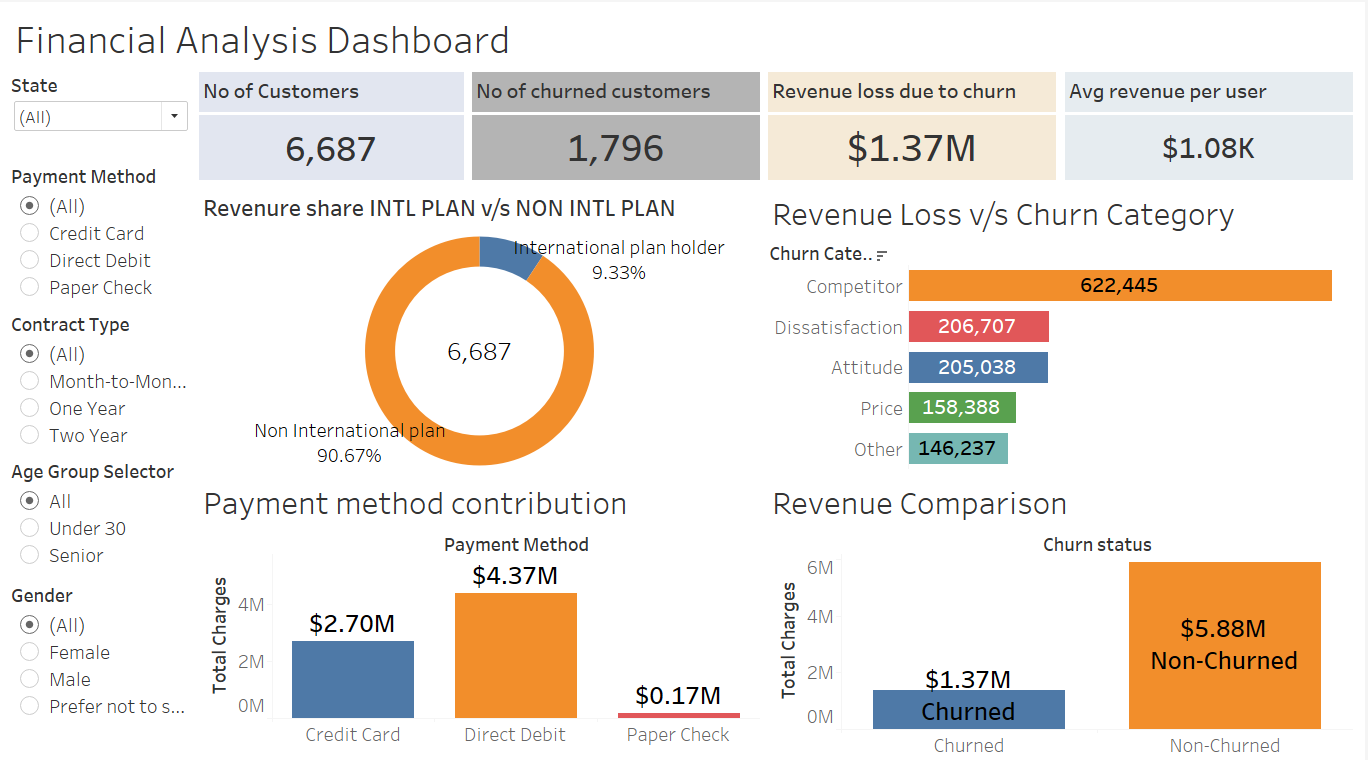

This screenshot's page, from the dashboard's own definition file:
{"tool":"tableau","page":{"name":"Financial Analysis Dashboard","canvas":[1366,768],"ordinal":2},"visuals":[{"type":"title","box":[8,8,1350,58]},{"type":"filter","title":"Revenue Loss v/s Churn Category","param":"[federated.18pctyw106af9z19qcwwc0n5sz3b].[none:State:nk]","box":[8,66,188,91]},{"type":"worksheet","title":"No of Customers","mark":"Automatic","box":[196,66,273.3,116.3]},{"type":"worksheet","title":"No of churned customers ","mark":"Automatic","box":[469.2,66,296.2,116.3]},{"type":"worksheet","title":"Revenue loss due to churn","mark":"Automatic","box":[765.5,66,296.3,116.3]},{"type":"worksheet","title":"Avg revenue per user","mark":"Automatic","box":[1061.8,66,296.2,116.3]},{"type":"filter","title":"Revenue Loss v/s Churn Category","param":"[federated.18pctyw106af9z19qcwwc0n5sz3b].[none:Payment Method:nk]","box":[8,157,188,148]},{"type":"worksheet","title":"Revenure share INTL PLAN v/s NON INTL PLAN","mark":"Pie","rows":["Calculation_926897102087405575","Calculation_926897102087651338"],"box":[196,182.3,569.5,288.9]},{"type":"worksheet","title":"Revenue Loss v/s Churn Category","mark":"Automatic","rows":["Churn Category"],"cols":["Calculation_733242316390531074"],"box":[765.5,182.3,592.5,288.9]},{"type":"filter","title":"Revenure share INTL PLAN v/s NON INTL PLAN","param":"[federated.18pctyw106af9z19qcwwc0n5sz3b].[none:Contract Type:nk]","box":[8,305,188,147]},{"type":"parameter","param":"[Parameters].[Parameter 2]","box":[8,452,188,124]},{"type":"worksheet","title":"Payment method contribution","mark":"Automatic","rows":["Total Charges"],"cols":["Payment Method"],"box":[196,471.1,569.5,288.9]},{"type":"worksheet","title":"Revenue Comparison","mark":"Automatic","rows":["Total Charges"],"cols":["Calculation_926897102082035714"],"box":[765.5,471.1,592.5,288.9]},{"type":"filter","title":"Revenue Comparison","param":"[federated.18pctyw106af9z19qcwwc0n5sz3b].[none:Gender:nk]","box":[8,576,188,154.5]}]}

Visuals, with their boxes in screenshot pixels (x1, y1, x2, y2), scaled from the page's 1366x768 canvas onto the 1368x760 screenshot:
title: left=8, top=8, right=1360, bottom=65
"Revenue Loss v/s Churn Category" filter: left=8, top=65, right=196, bottom=155
"No of Customers" worksheet: left=196, top=65, right=470, bottom=180
"No of churned customers " worksheet: left=470, top=65, right=767, bottom=180
"Revenue loss due to churn" worksheet: left=767, top=65, right=1063, bottom=180
"Avg revenue per user" worksheet: left=1063, top=65, right=1360, bottom=180
"Revenue Loss v/s Churn Category" filter: left=8, top=155, right=196, bottom=302
"Revenure share INTL PLAN v/s NON INTL PLAN" worksheet (Pie marks): left=196, top=180, right=767, bottom=466
"Revenue Loss v/s Churn Category" worksheet: left=767, top=180, right=1360, bottom=466
"Revenure share INTL PLAN v/s NON INTL PLAN" filter: left=8, top=302, right=196, bottom=447
parameter: left=8, top=447, right=196, bottom=570
"Payment method contribution" worksheet: left=196, top=466, right=767, bottom=752
"Revenue Comparison" worksheet: left=767, top=466, right=1360, bottom=752
"Revenue Comparison" filter: left=8, top=570, right=196, bottom=723
